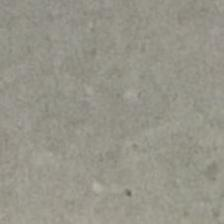Non_Crack: (25, 16, 211, 224)
